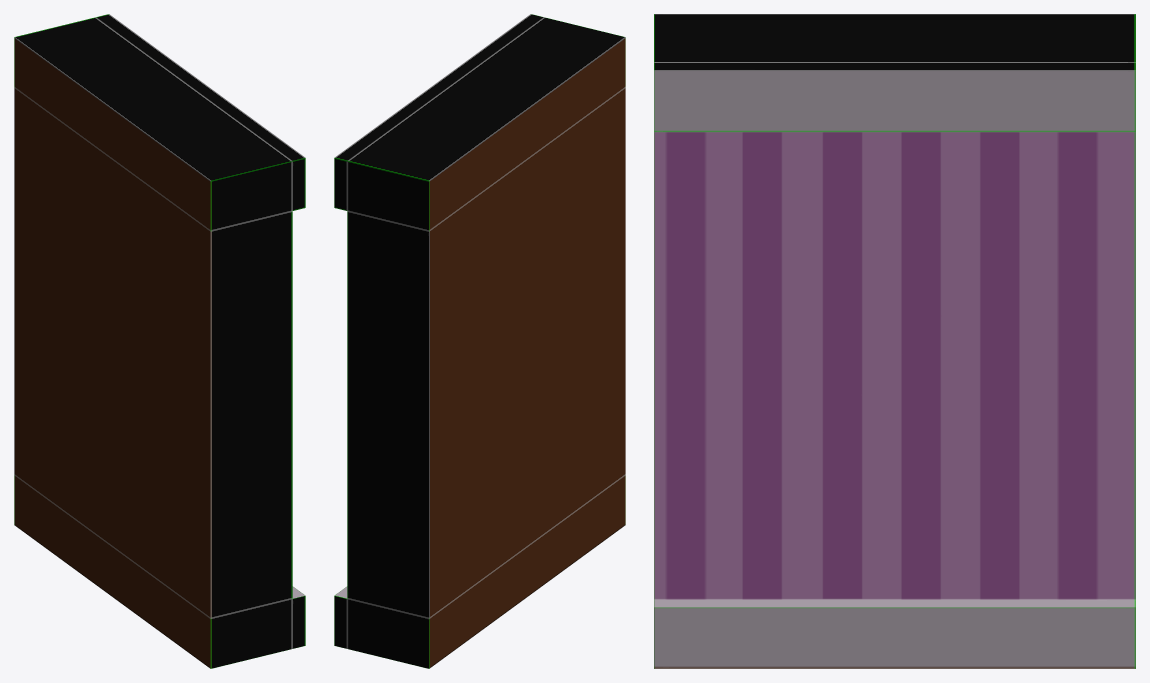
File: Mur 1 biff.FBX
3 renders of one model, left to right at view 1: azimuth 30°, elevation 25°; view 2: azimuth 150°, elevation 25°; view 3: azimuth 270°, elevation 25°, orthographic. The views are drawn at different scales.
Visible parts, largest first — view 1: Mur; view 2: Mur; view 3: Mur.
Part boxes in pixels (x1,y1,x2,y2): Mur: (14,14,305,668); Mur: (334,14,625,668); Mur: (654,14,1135,668).
Bounding box in the file's own units: 66.82 × 328 × 239.
1 material, 1 textured.
